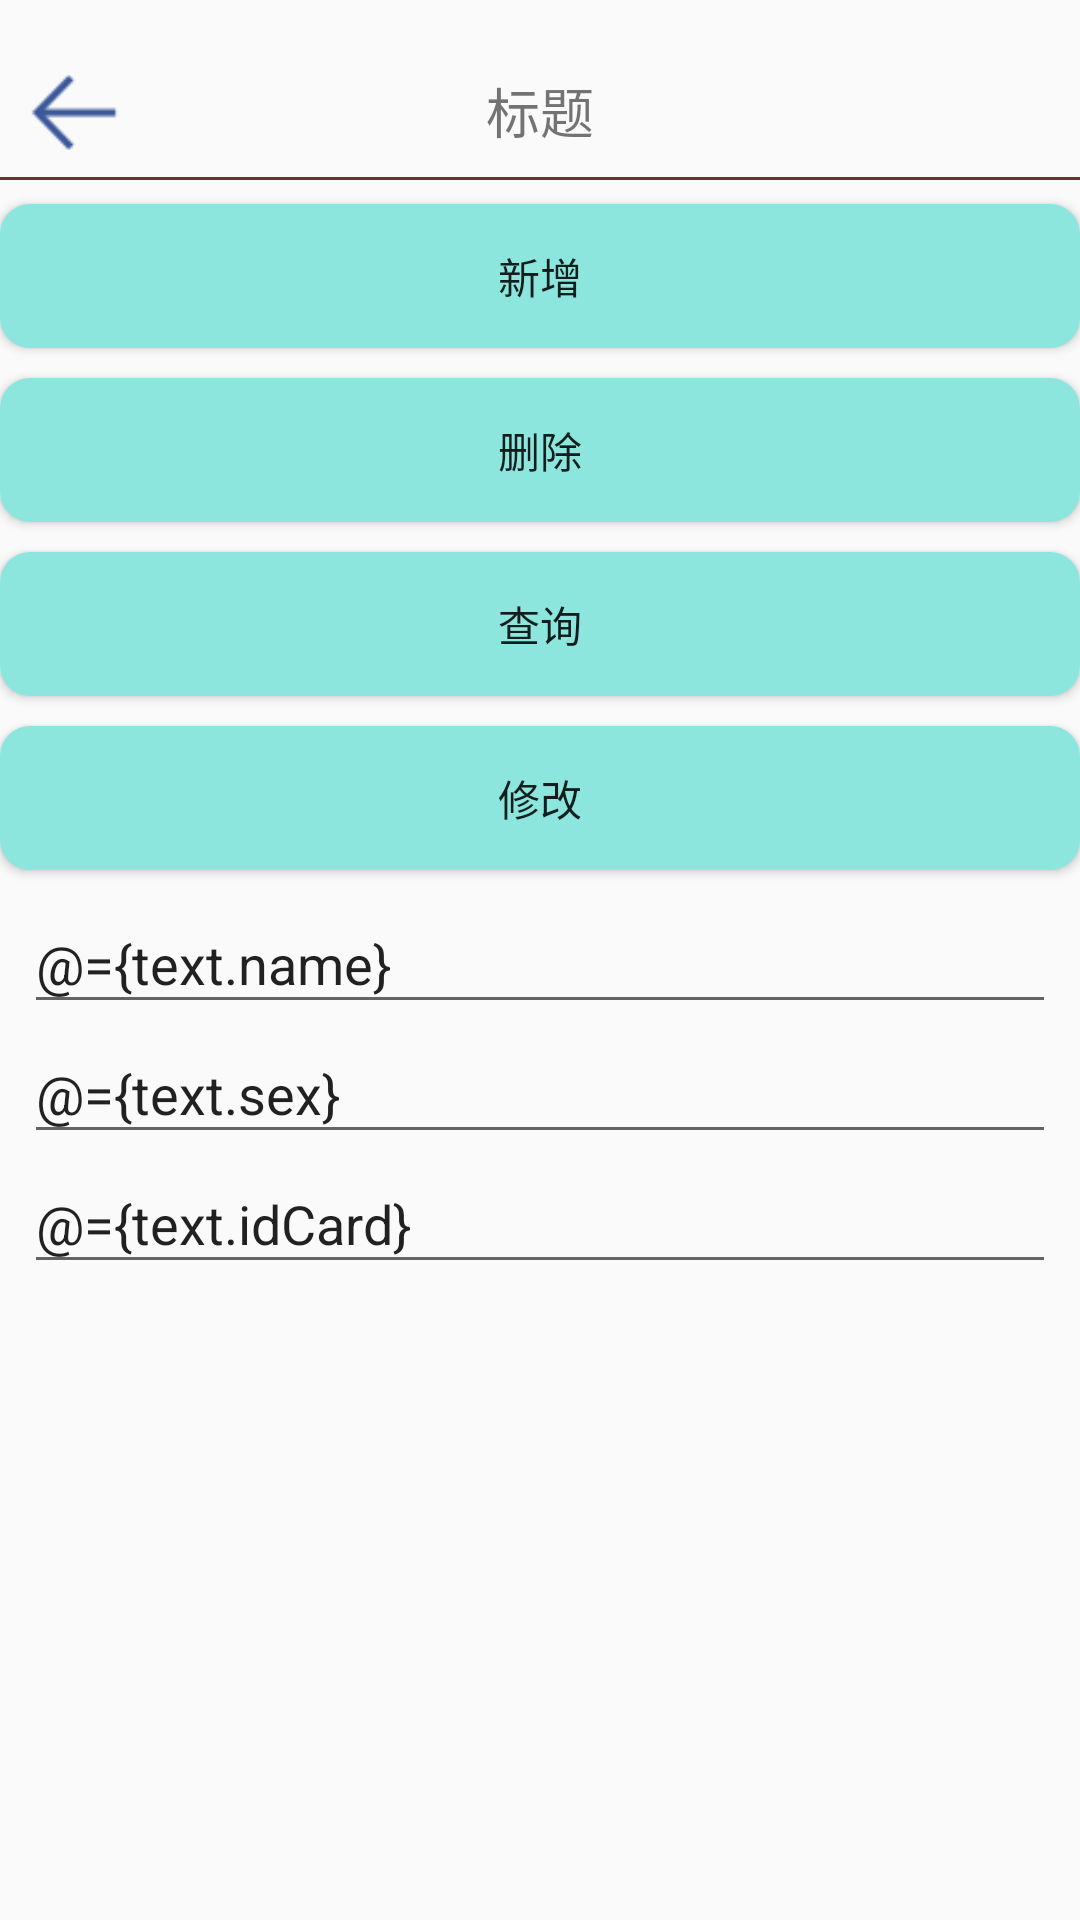

Screen size 1080 × 1920. Icon name, then its box in pixels as (x1, y1, x2, y2):
back: (32, 75, 117, 150)
